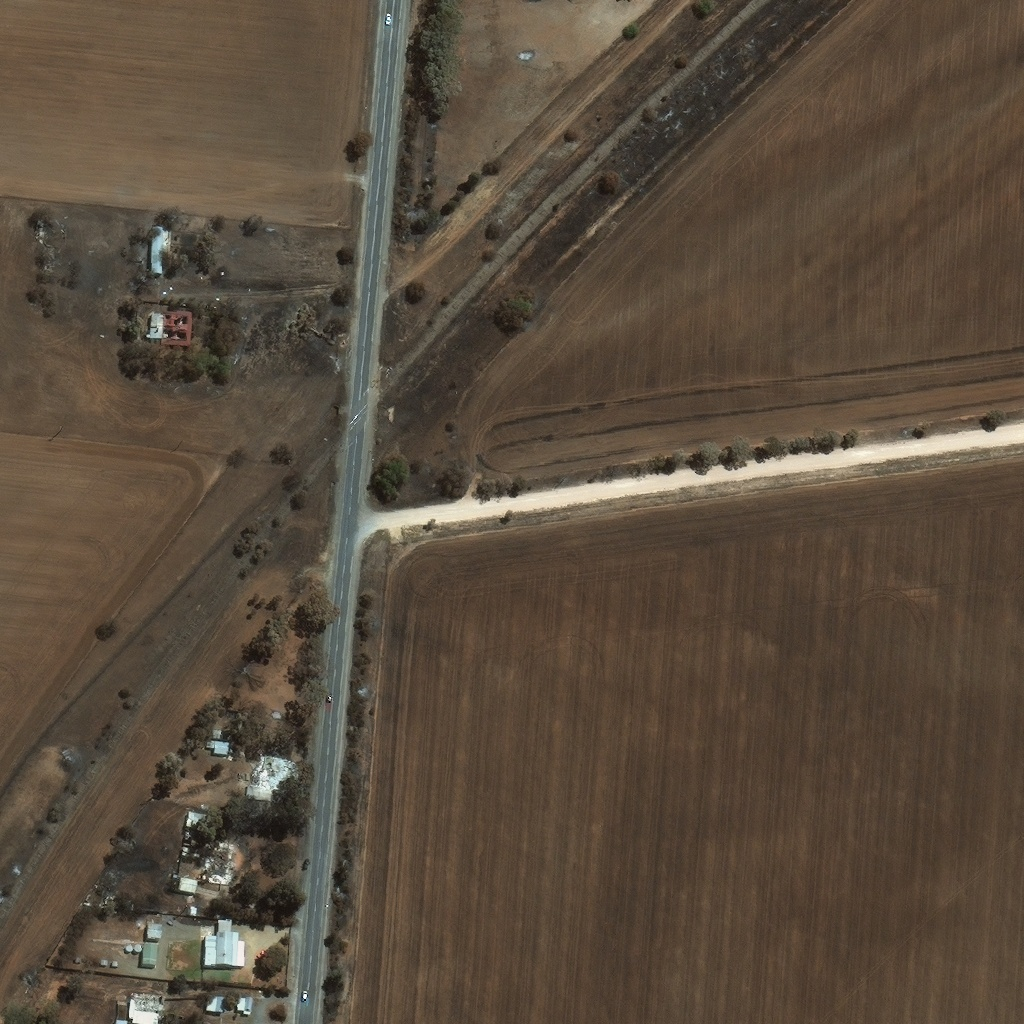0 no-damage: (205, 916, 247, 963), (151, 227, 173, 275), (182, 828, 205, 856), (187, 808, 210, 827), (176, 873, 200, 891), (208, 736, 233, 751), (207, 992, 226, 1009), (238, 992, 254, 1011), (143, 942, 158, 962), (148, 919, 164, 936), (117, 1016, 129, 1023), (76, 951, 84, 959), (114, 957, 120, 963), (103, 957, 108, 962)
2 major-damage: (147, 311, 193, 348), (130, 989, 166, 1023)
3 destroyed: (252, 750, 290, 797), (208, 839, 238, 881), (103, 892, 117, 904), (36, 224, 48, 235), (142, 916, 148, 924)
